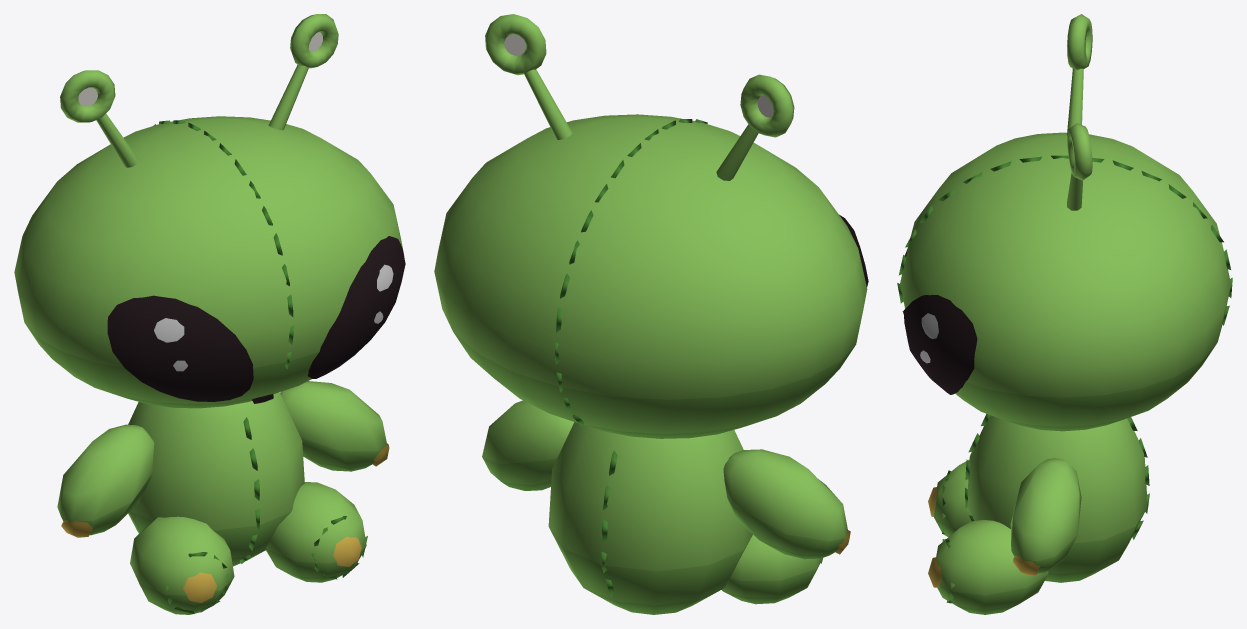
The model's file is Cosmetic_PlushAlien.glb.
3 renders of one model, left to right at view 1: azimuth 30°, elevation 25°; view 2: azimuth 150°, elevation 25°; view 3: azimuth 270°, elevation 25°, orthographic. The views are drawn at different scales.
Visible parts, largest first — view 1: Cosmetic_PlushAlien; view 2: Cosmetic_PlushAlien; view 3: Cosmetic_PlushAlien.
Boxes of the visible parts, x1,y1,x2,y2 form: Cosmetic_PlushAlien: [14, 14, 405, 614]; Cosmetic_PlushAlien: [434, 14, 868, 614]; Cosmetic_PlushAlien: [897, 14, 1232, 614].
Bounding box in the file's own units: 0.4056 × 0.5676 × 0.3403.
